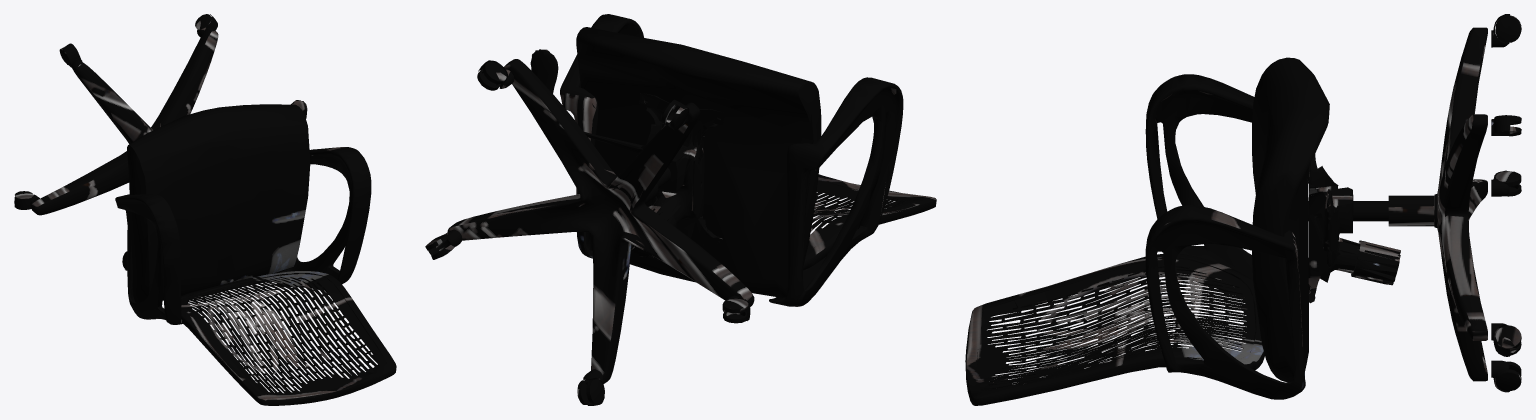
3 renders of one model, left to right at view 1: azimuth 30°, elevation 25°; view 2: azimuth 150°, elevation 25°; view 3: azimuth 270°, elevation 25°, orthographic. The views are drawn at different scales.
Bounding box in the file's own units: 0.6092 × 0.5875 × 0.8863.
